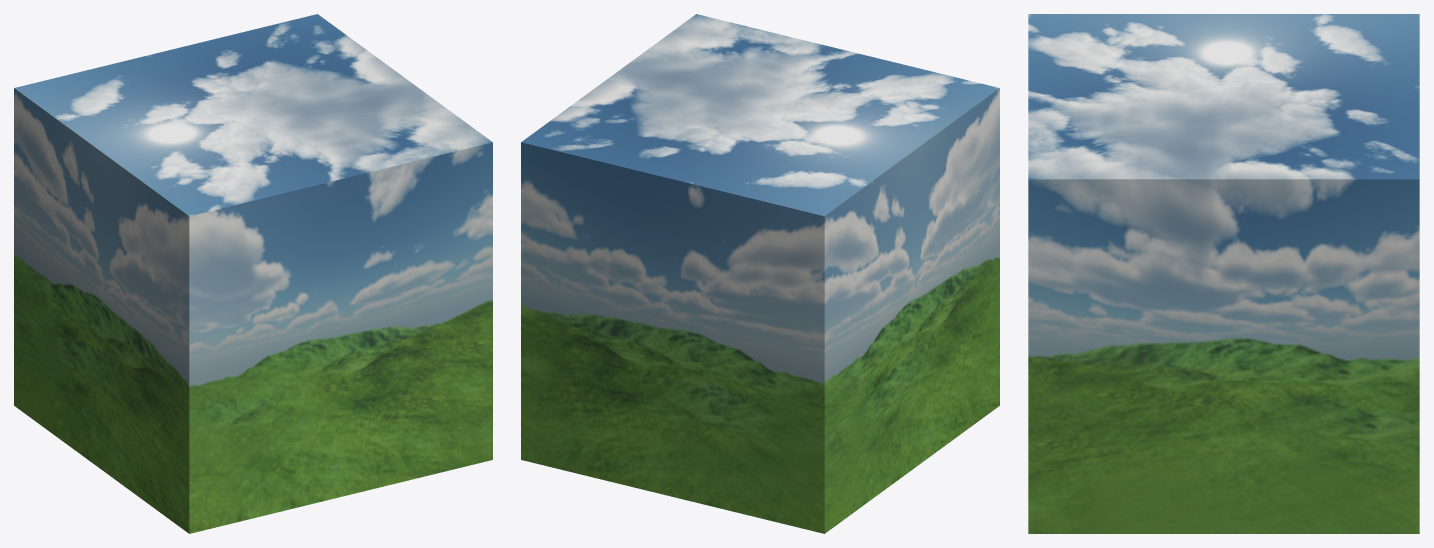
Rendered from butast_primer.glb.
3 renders of one model, left to right at view 1: azimuth 30°, elevation 25°; view 2: azimuth 150°, elevation 25°; view 3: azimuth 270°, elevation 25°, orthographic. The views are drawn at different scales.
Parts seen in each view (by area): view 1: Cube; view 2: Cube; view 3: Cube.
Boxes of the visible parts, x1,y1,x2,y2 form: Cube: (14, 14, 492, 533); Cube: (521, 14, 999, 533); Cube: (1028, 14, 1419, 533).
Size of the model in its own units: 20.4 by 20.4 by 20.4.
Materials: 4 (4 with a texture image).
